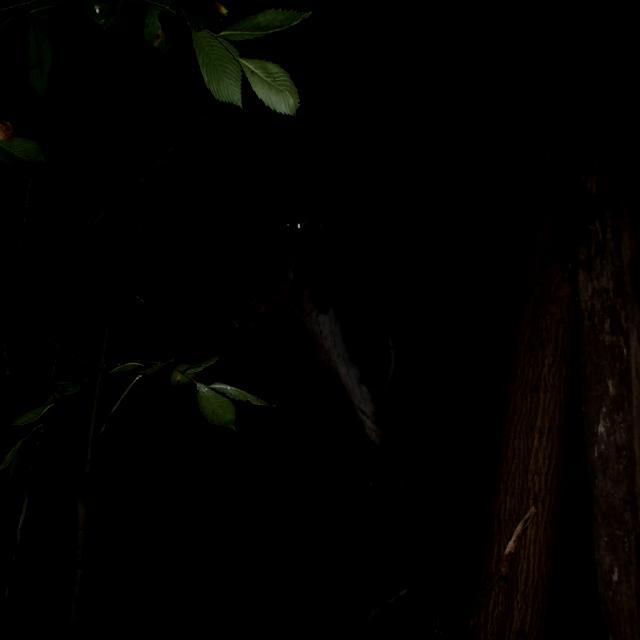Dog: (241, 147, 439, 498)
